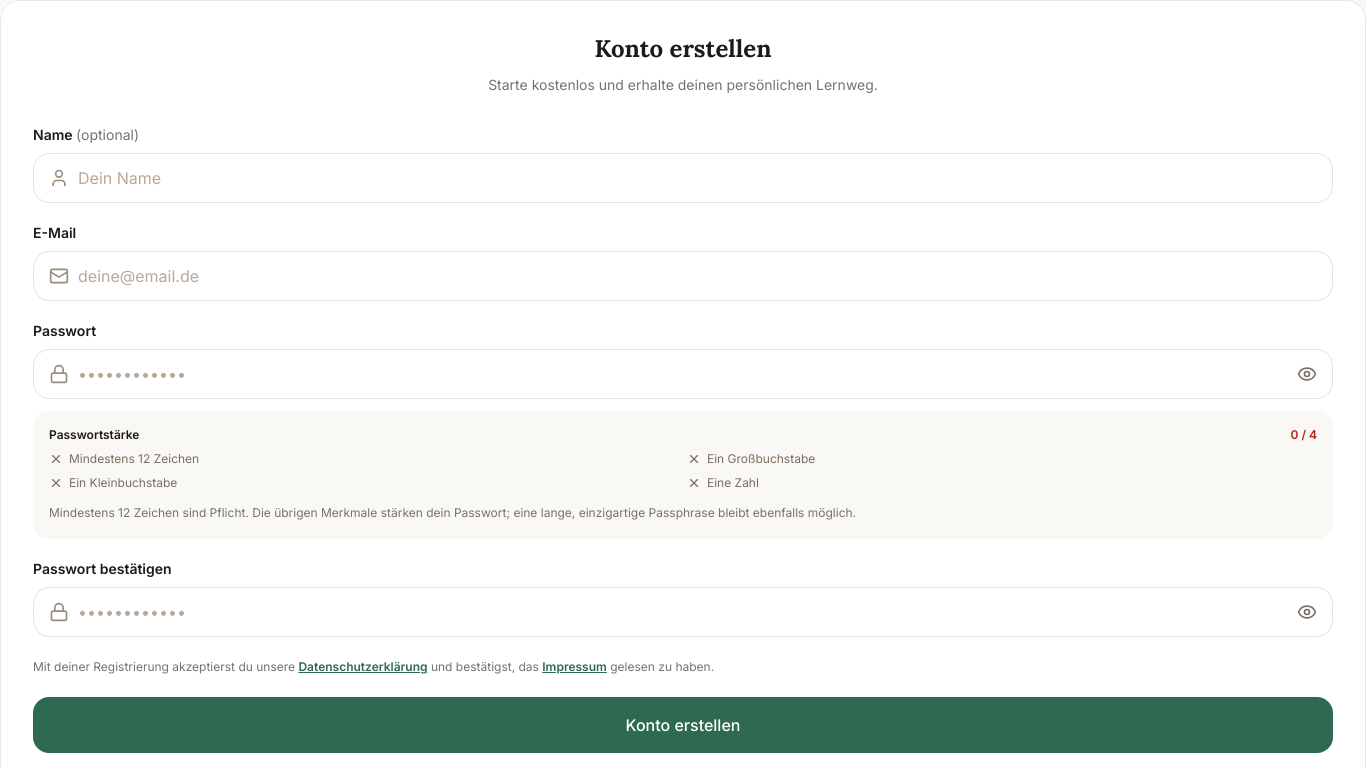
Test: authentication forms › shows live strength checks, toggles both registration password fields, and prevents mismatched submission
Type "SicheresPasswort2026" into the password field labelled "Passwort".
click(683, 374); type("SicheresPasswort2026")  # box [33,349,1333,399]
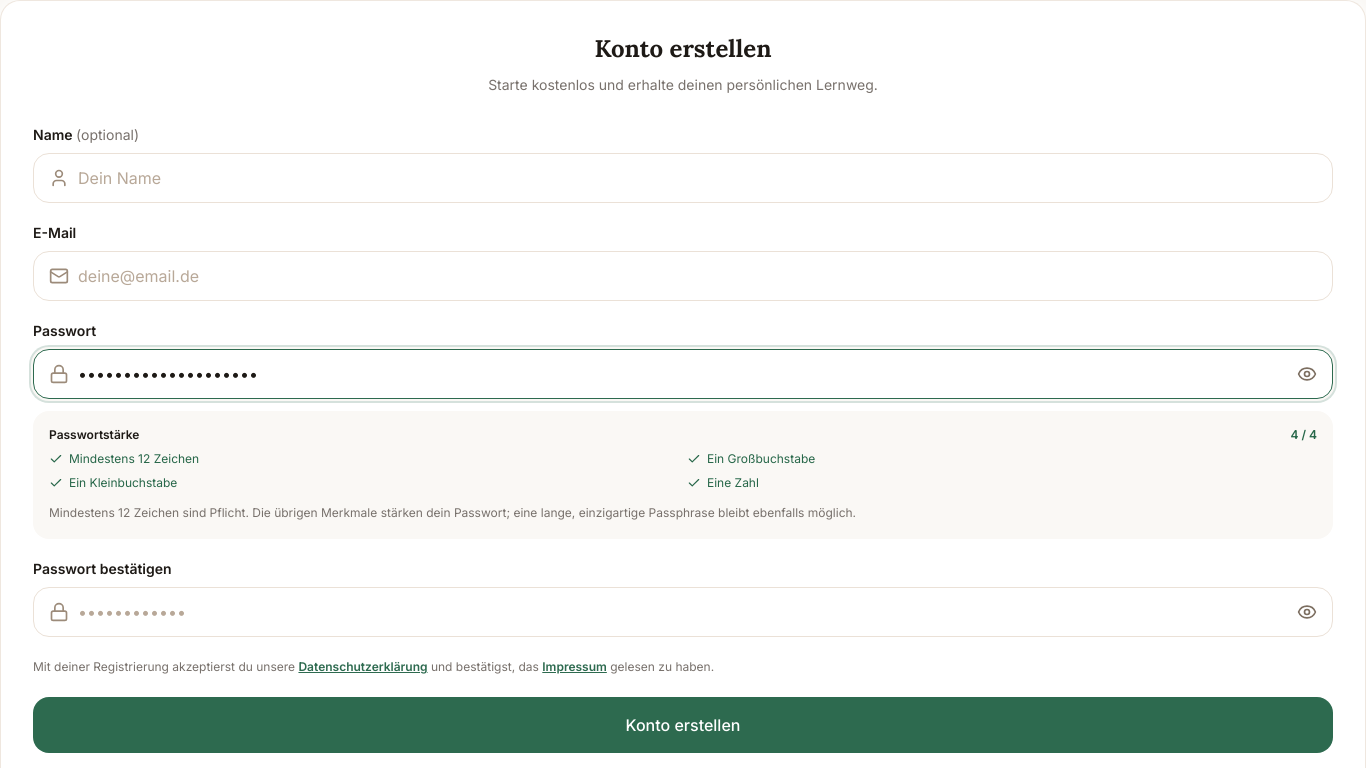
Expected: the text "4 / 4" is shown, [1290,427,1317,443]
Click the button named "Passwort anzeigen".
click(1307, 374)  # box [1285,352,1329,396]
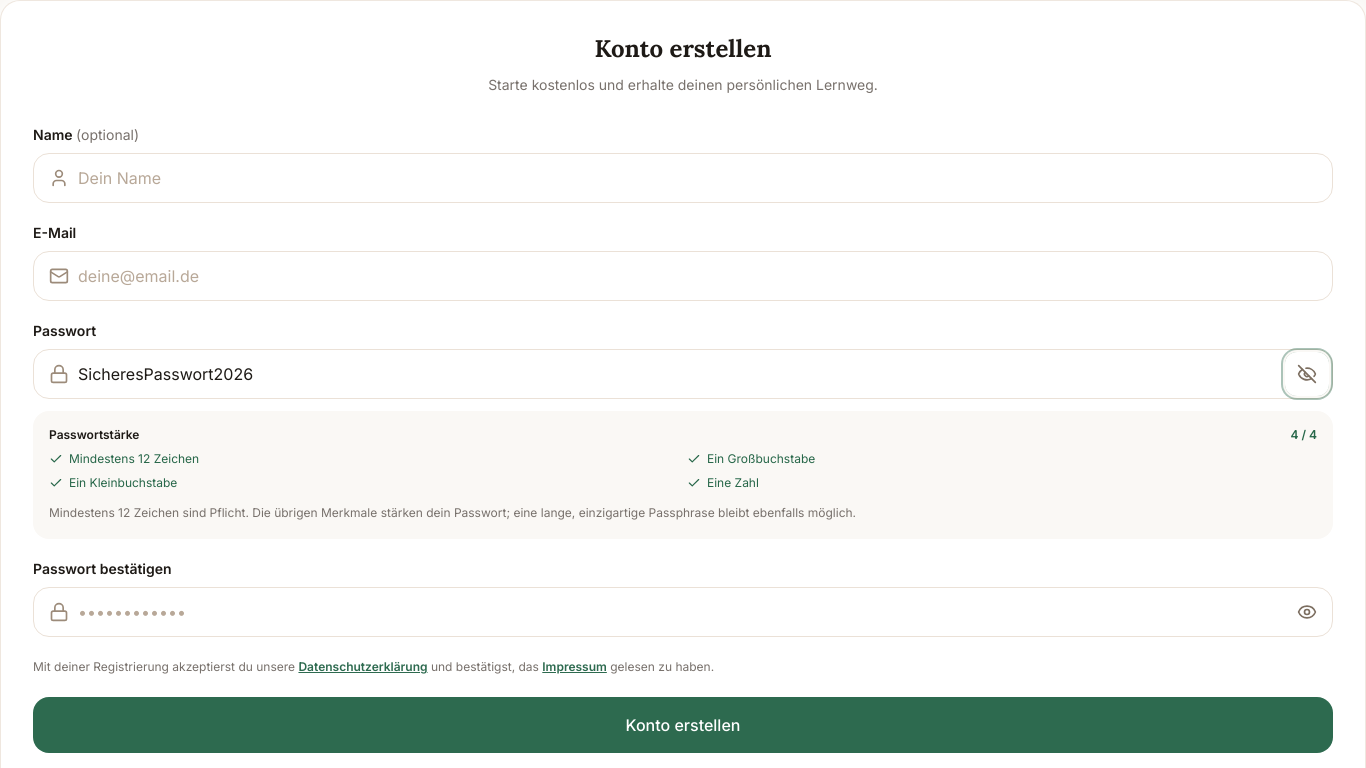
Click the button named "Passwort bestätigen anzeigen".
click(1307, 612)  # box [1285,590,1329,634]
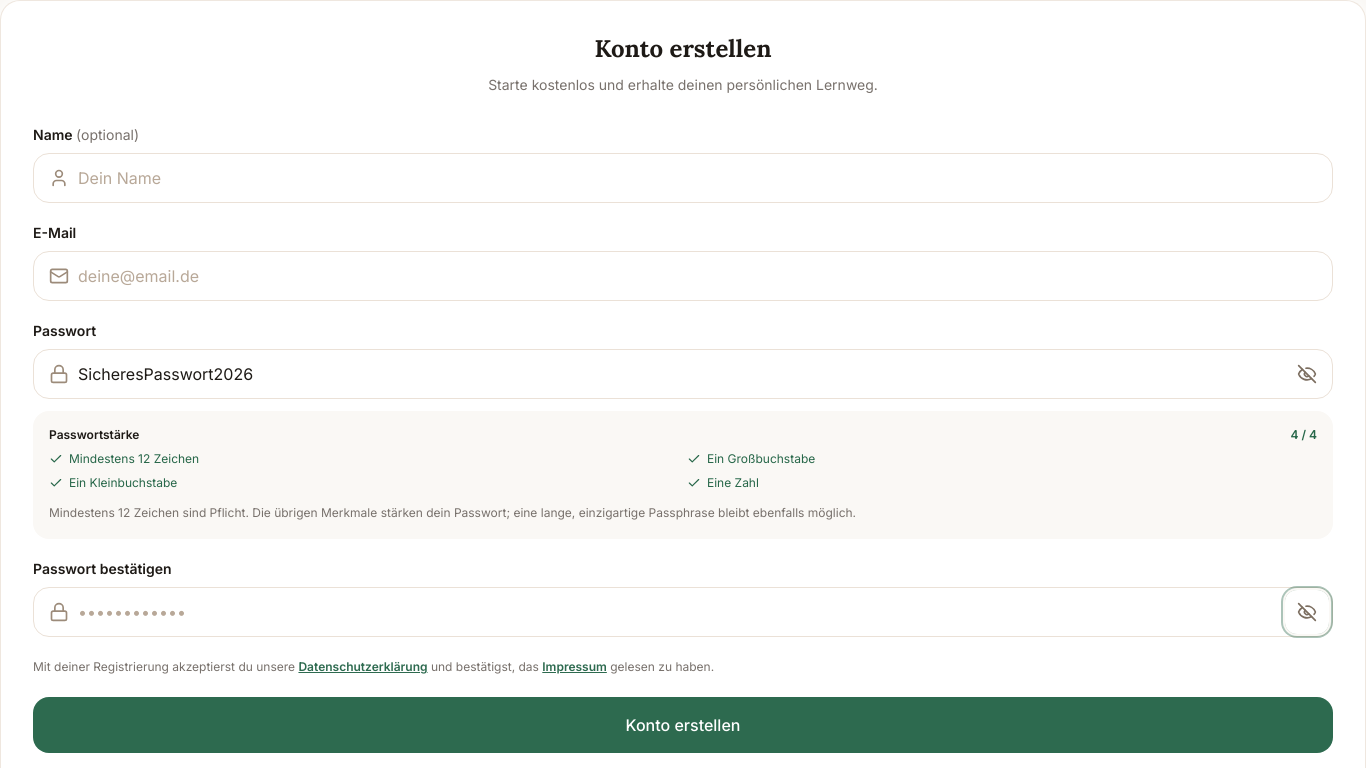
Expected: the field labelled "Passwort" shows its text, [33,349,1333,399]
Type "anderes-passwort" into the field labelled "Passwort bestätigen".
click(683, 612); type("anderes-passwort")  # box [33,587,1333,637]
(page scrolled)
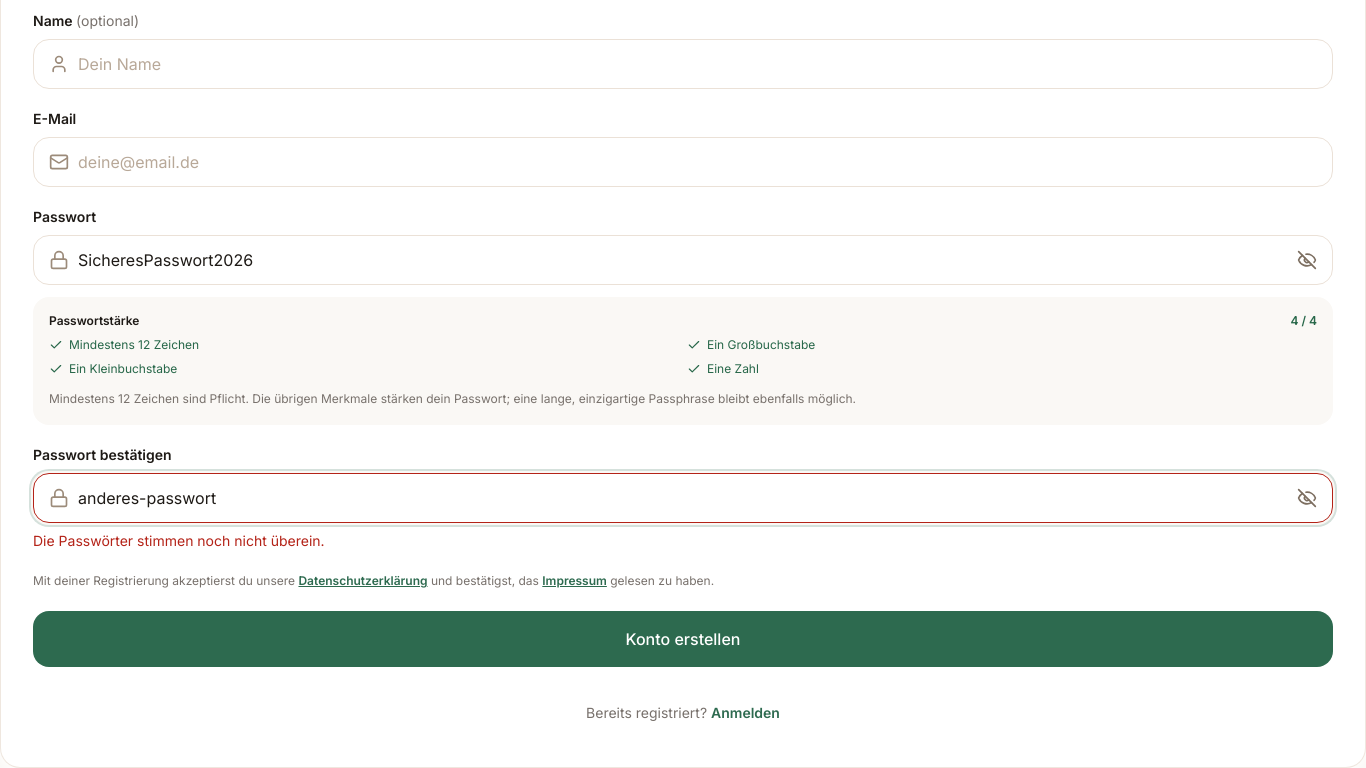
Expected: the text "Die Passwörter stimmen noch nicht überein." is shown, [33,532,325,549]
Expected: the button "Konto erstellen" is disabled, [33,611,1333,667]
